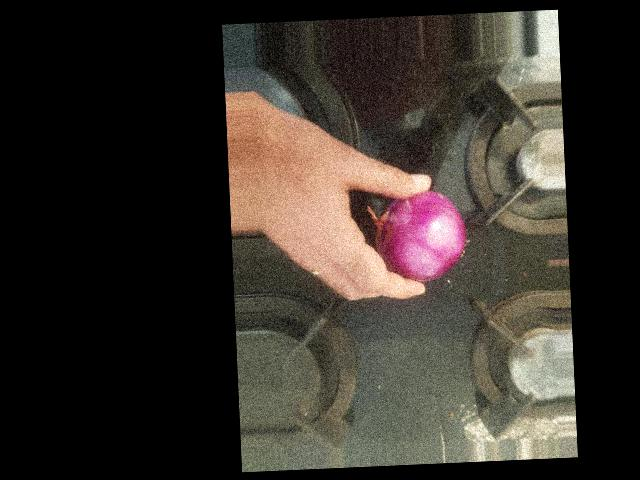onion: (424, 273, 522, 355)
